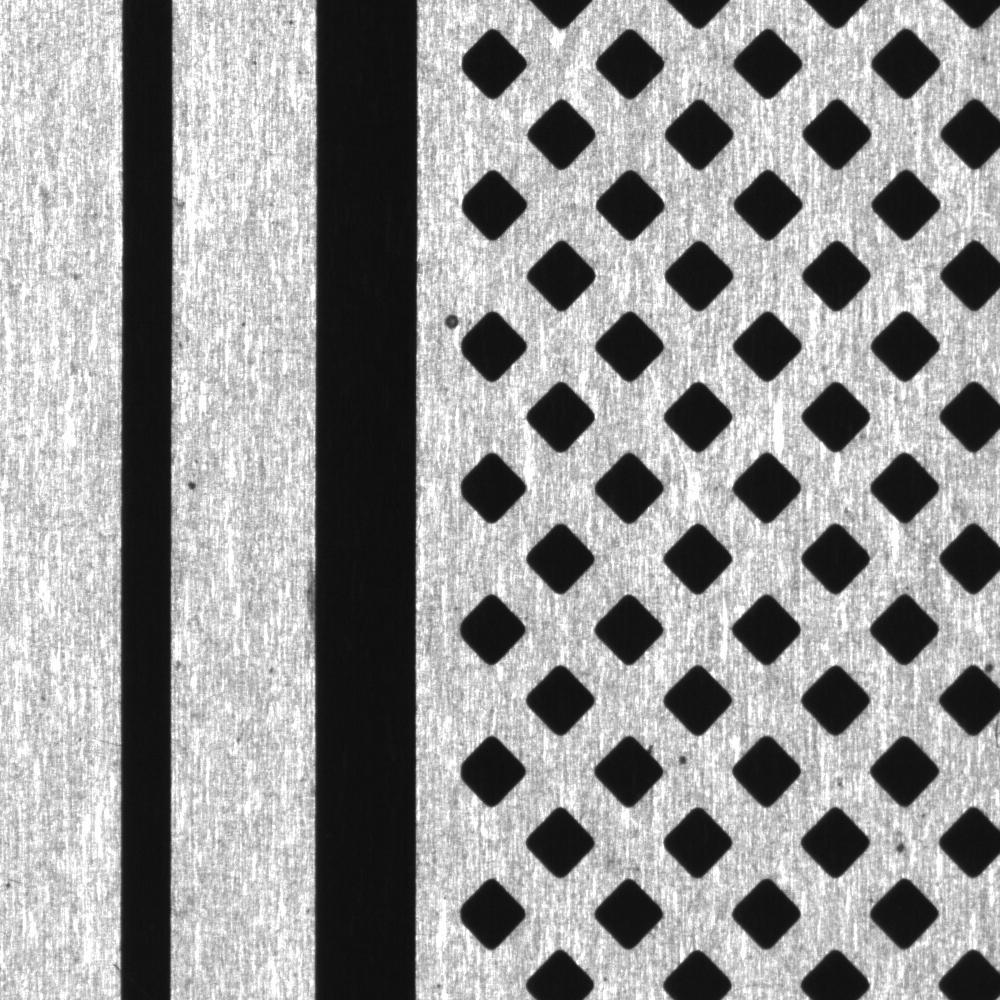Etching: (286, 555, 323, 636), (172, 184, 202, 222), (229, 315, 260, 337)
Pinhole: (259, 657, 287, 687), (671, 746, 696, 775), (281, 8, 305, 38), (437, 309, 467, 333), (177, 470, 200, 496), (241, 51, 266, 74)
Scar: (86, 722, 121, 762)
